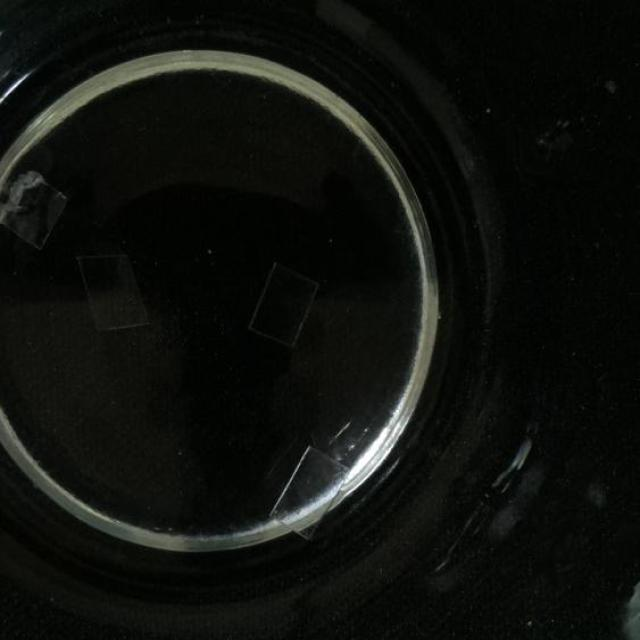fiber: (268, 441, 355, 543), (246, 255, 322, 354), (78, 252, 154, 336), (0, 169, 73, 253)
